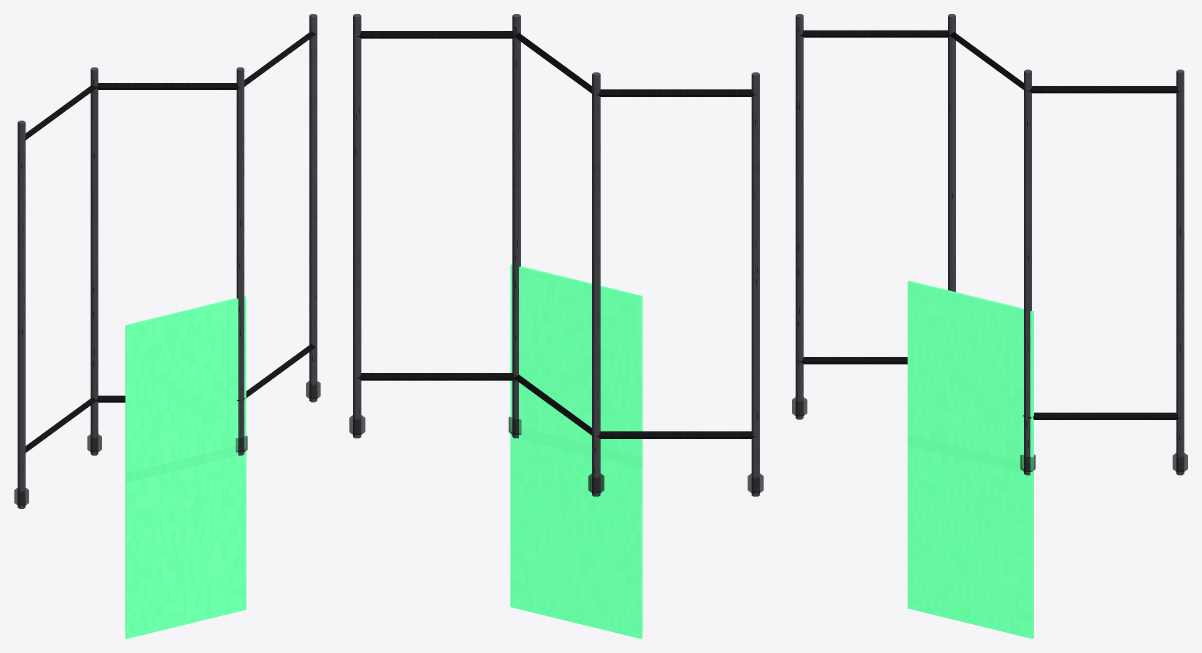
File: medical_screen_industrial_hazard.glb
3 renders of one model, left to right at view 1: azimuth 30°, elevation 25°; view 2: azimuth 150°, elevation 25°; view 3: azimuth 330°, elevation 25°, orthographic. The views are drawn at different scales.
Parts seen in each view (by area): view 1: medical_screen_industrial_hazard; view 2: medical_screen_industrial_hazard; view 3: medical_screen_industrial_hazard.
Boxes of the visible parts, <box> form: medical_screen_industrial_hazard: <box>14,14,320,638</box>; medical_screen_industrial_hazard: <box>349,14,763,638</box>; medical_screen_industrial_hazard: <box>792,14,1187,638</box>.
Bounding box in the file's own units: 1.61 × 2.46 × 0.36.
3 materials, 3 textured.
